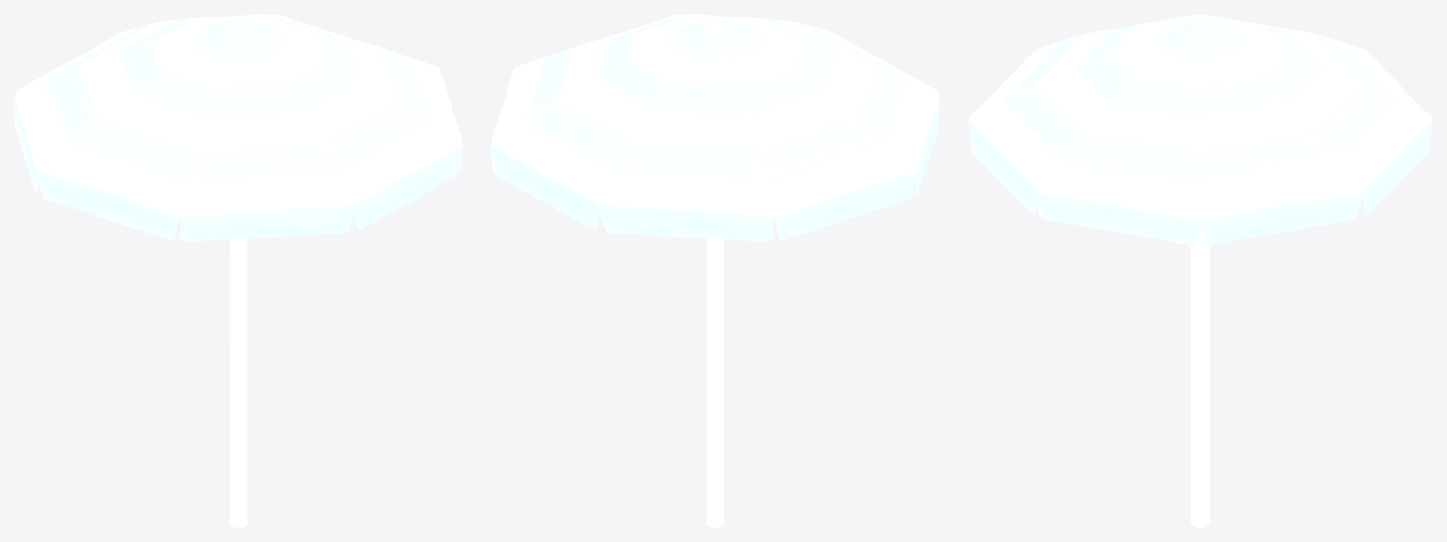
File: beach_umbrella2.glb
The picture shows the model from 3 angles, left to right: view 1: azimuth 30°, elevation 25°; view 2: azimuth 150°, elevation 25°; view 3: azimuth 270°, elevation 25°; orthographic projection.
Parts seen in each view (by area): view 1: beach_umbrella2; view 2: beach_umbrella2; view 3: beach_umbrella2.
Boxes of the visible parts, x1,y1,x2,y2 form: beach_umbrella2: (14, 14, 462, 527); beach_umbrella2: (491, 14, 939, 527); beach_umbrella2: (968, 14, 1432, 527).
Size of the model in its own units: 2 by 2.4 by 2.01.
1 material, 1 textured.
